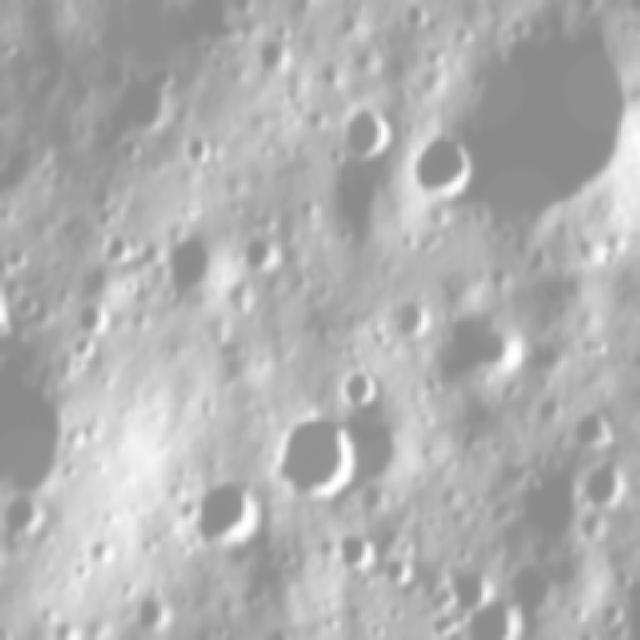crater: (470, 23, 638, 220), (1, 341, 62, 485), (437, 308, 525, 390), (284, 416, 365, 502), (198, 466, 264, 546), (117, 58, 181, 131), (417, 130, 465, 208), (162, 226, 213, 294), (346, 100, 397, 166), (2, 488, 50, 554), (462, 592, 524, 638), (576, 460, 633, 508), (573, 402, 621, 452), (333, 534, 384, 572), (243, 234, 288, 277), (452, 554, 488, 604), (338, 364, 382, 404), (259, 28, 296, 75), (396, 292, 430, 342), (134, 593, 175, 633), (86, 178, 123, 215), (77, 298, 114, 333), (104, 228, 136, 266), (182, 134, 221, 164), (136, 526, 170, 560), (384, 552, 414, 590), (225, 284, 263, 313), (88, 535, 123, 563), (602, 601, 628, 636), (115, 137, 151, 161), (53, 611, 84, 637), (402, 2, 438, 24), (68, 336, 100, 358), (15, 288, 37, 317), (584, 335, 614, 356), (603, 239, 625, 267), (320, 611, 348, 631), (614, 567, 635, 590)
